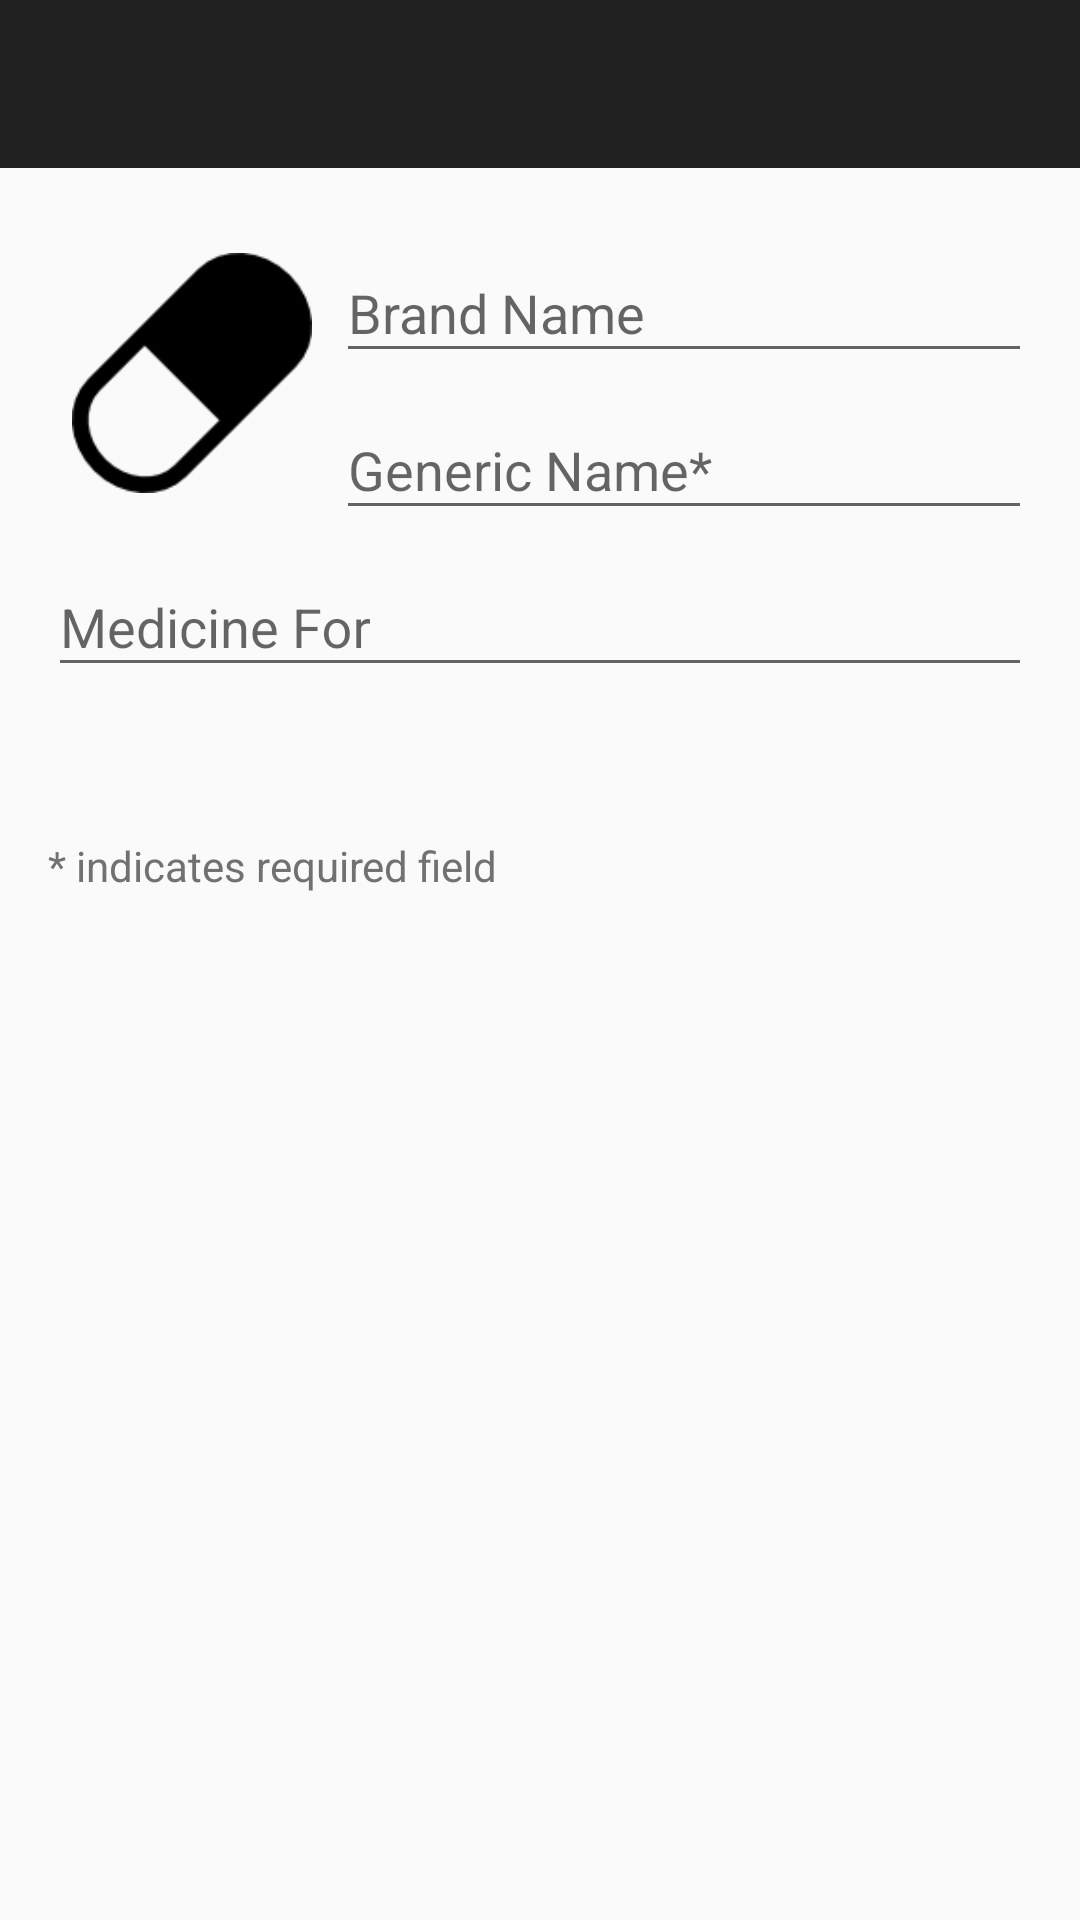

Named icons in this screenshot (1080px x 1920px) and their bounding boxes, (x1, y1, x2, y2):
pill capsule: (72, 253, 312, 493)
